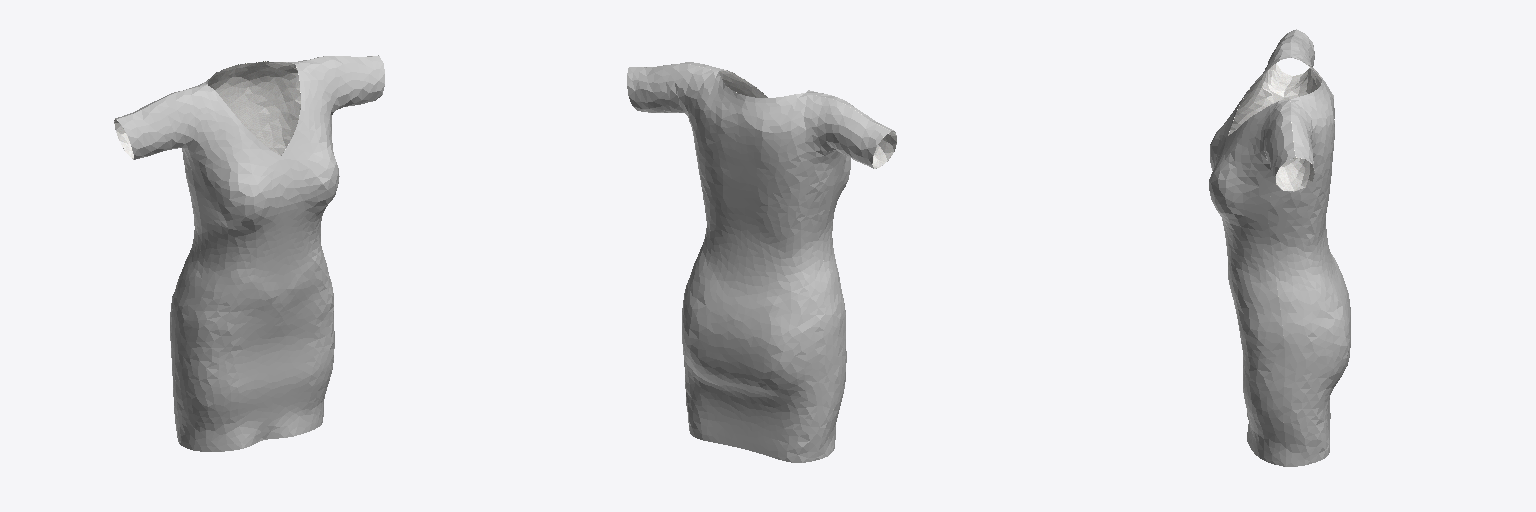
3 renders of one model, left to right at view 1: azimuth 30°, elevation 25°; view 2: azimuth 150°, elevation 25°; view 3: azimuth 270°, elevation 25°, orthographic.
Size of the model in its own units: 577 by 748 by 271.
Materials: 7 (1 with a texture image).